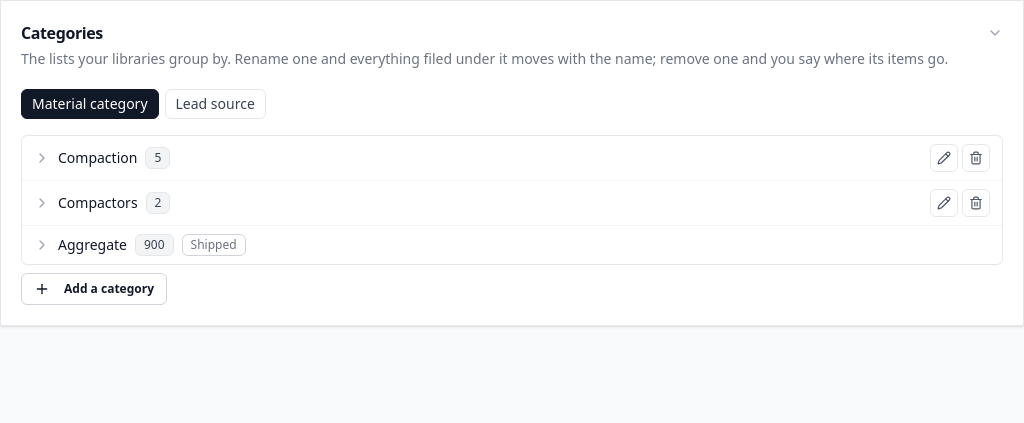
Test: renaming one › renames the category, and says how many items moved with it
Expected: the text "Compaction" is shown, left=58, top=148, right=137, bottom=168
Click the button named "Rename Compaction" at (944, 158), box left=930, top=144, right=958, bottom=172
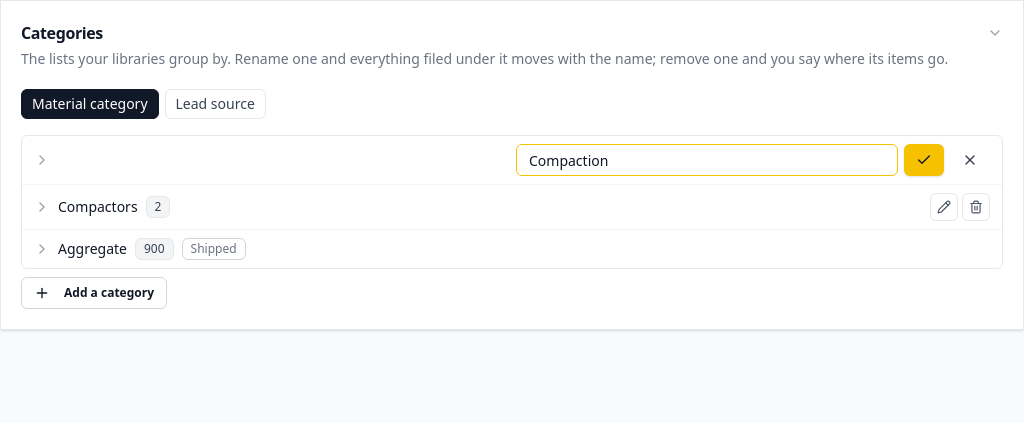
Replace the text in the field named "New name for Compaction" with "Compactors and rollers" at (707, 160), box left=516, top=144, right=898, bottom=176
Then press Enter
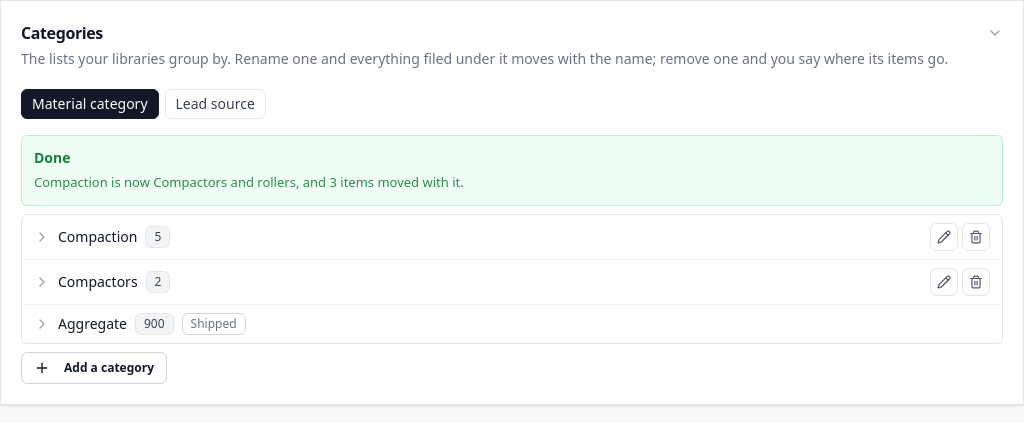
Result: the text "3 items moved with it" is shown at left=34, top=173, right=464, bottom=191
